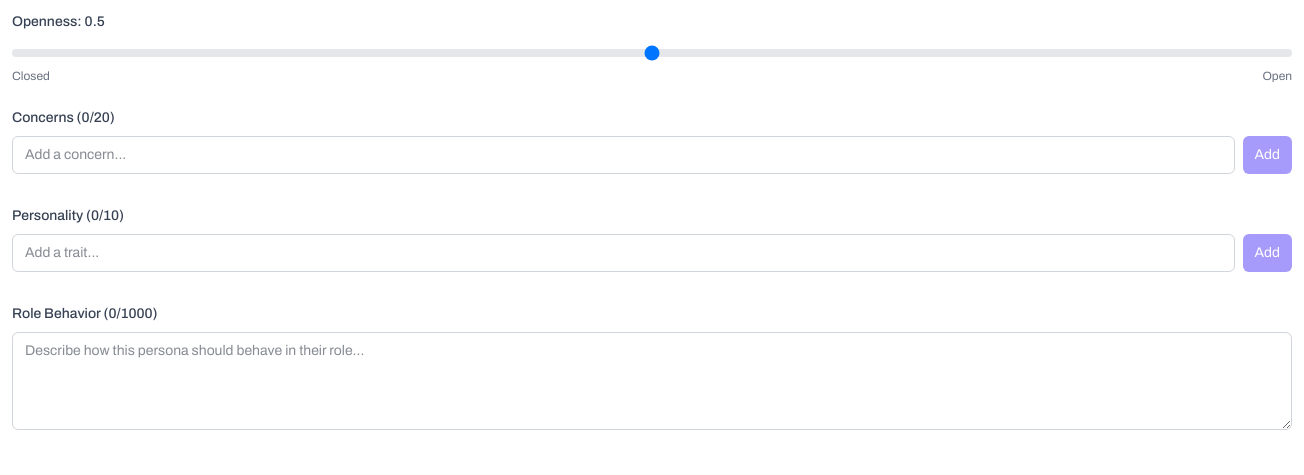
Test: PersonaCharacteristicsEditor › concerns › clears the input after a successful add (controlled harness)
Type "First" into the field with test id "concern-input" at (623, 155), box [12,136,1235,174]
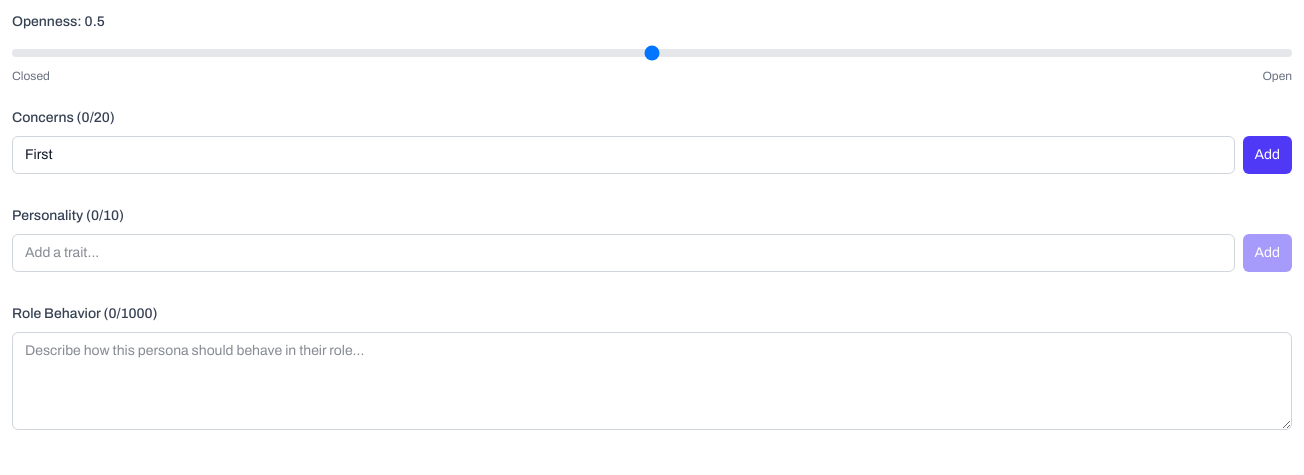
Click the button with test id "add-concern-button" at (1267, 155), box [1243,136,1292,174]
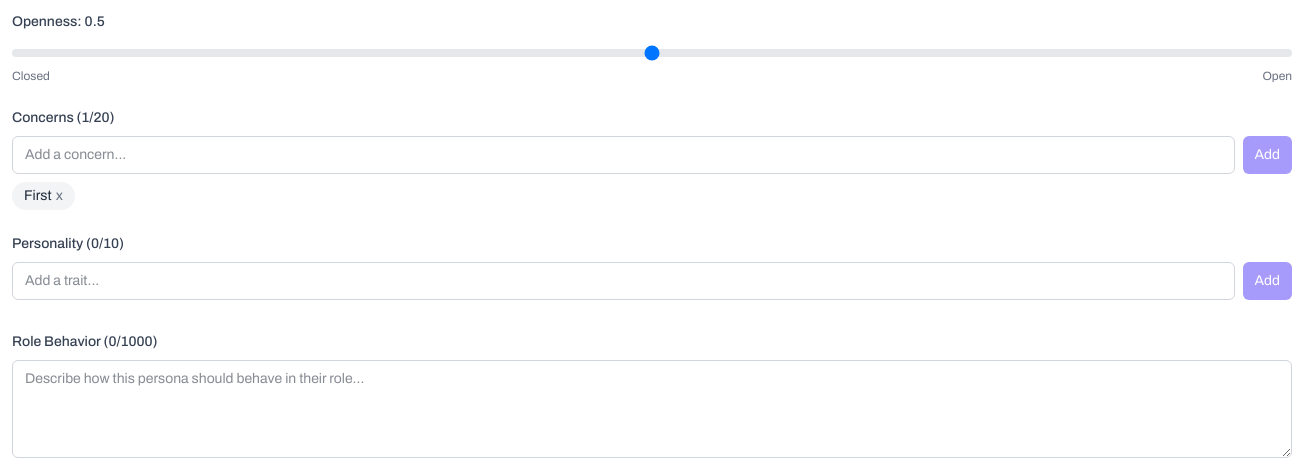
Check: the field with test id "concern-input" is empty, box [12,136,1235,174]
Check: the text "First" is shown, box [24,188,52,203]
Check: the text "Concerns (1/20)" is shown, box [12,110,114,125]
